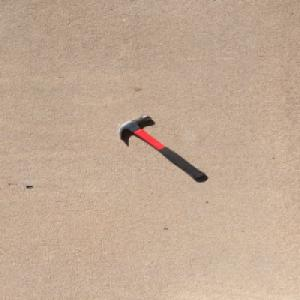Hammer: (116, 113, 207, 180)
